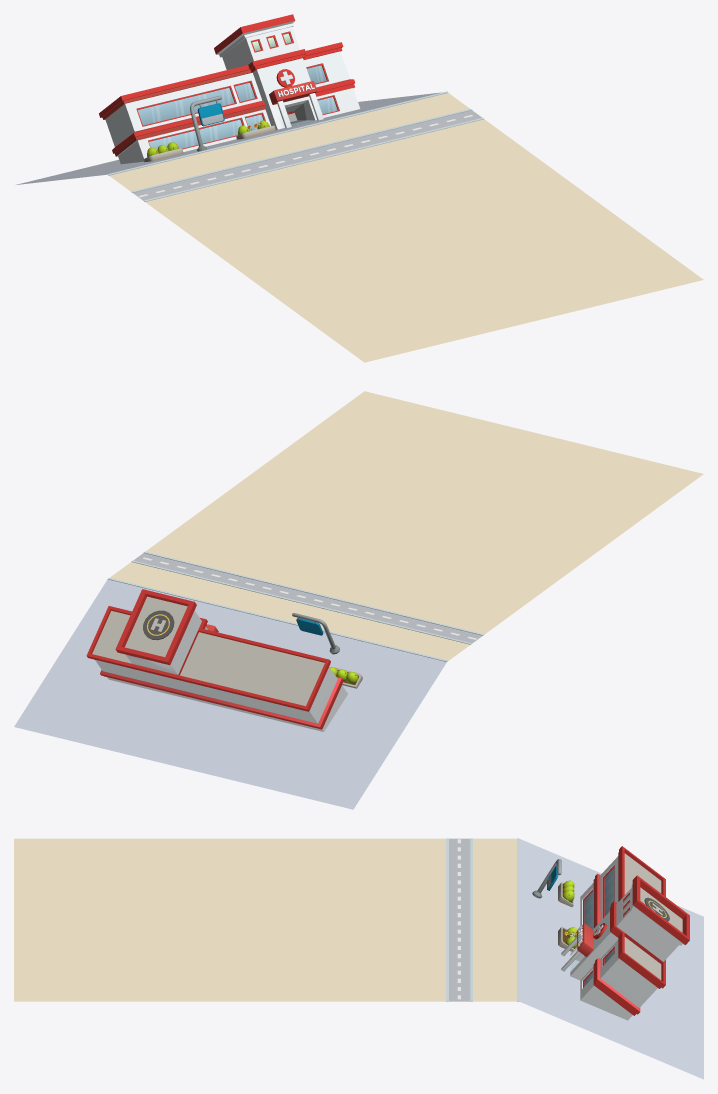
The model's file is 02_Envi.fbx.
3 views of the same model, one above another, from view 1: azimuth 30°, elevation 25°; view 2: azimuth 150°, elevation 25°; view 3: azimuth 270°, elevation 25° (orthographic).
Parts seen in each view (by area): view 1: 02_CarPlane.002, 02_Hospital, 02_Parking.002, 02_Road.002, 02_Plane.001, 02_Street Light.005; view 2: 02_CarPlane.002, 02_Plane.001, 02_Hospital, 02_Parking.002, 02_Road.002, 02_Street Light.005; view 3: 02_CarPlane.002, 02_Plane.001, 02_Hospital, 02_Parking.002, 02_Road.002, 02_Street Light.005.
Part boxes in pixels (bbox=[...]): 02_CarPlane.002: bbox=[143, 118, 703, 362]; 02_Hospital: bbox=[99, 14, 360, 164]; 02_Parking.002: bbox=[107, 91, 471, 192]; 02_Road.002: bbox=[133, 110, 482, 200]; 02_Plane.001: bbox=[16, 92, 440, 184]; 02_Street Light.005: bbox=[190, 96, 224, 151]; 02_CarPlane.002: bbox=[143, 391, 703, 635]; 02_Plane.001: bbox=[14, 579, 446, 809]; 02_Hospital: bbox=[86, 589, 347, 731]; 02_Parking.002: bbox=[108, 560, 471, 661]; 02_Road.002: bbox=[133, 553, 482, 643]; 02_Street Light.005: bbox=[292, 613, 339, 654]; 02_CarPlane.002: bbox=[14, 838, 448, 1001]; 02_Plane.001: bbox=[519, 839, 703, 1079]; 02_Hospital: bbox=[561, 846, 689, 1020]; 02_Parking.002: bbox=[470, 838, 519, 1001]; 02_Road.002: bbox=[449, 838, 470, 1001]; 02_Street Light.005: bbox=[532, 859, 561, 898].
Size of the model in its own units: 4000 by 1533 by 7156.
